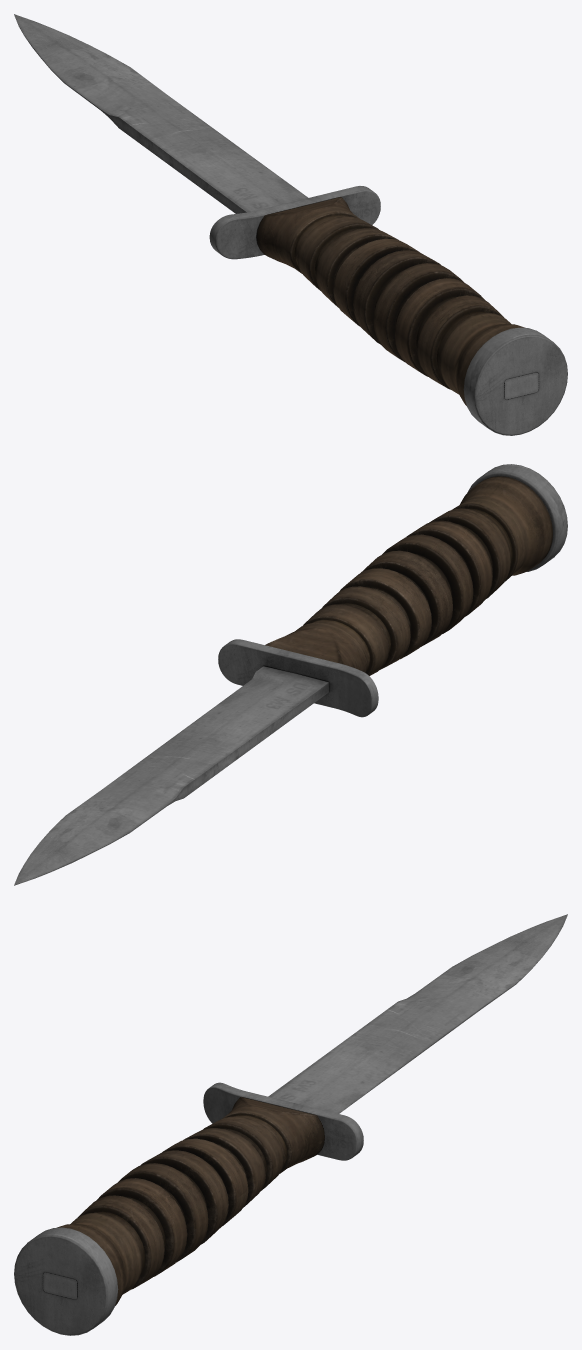
File: M3TrenchKnife.fbx
3 views of the same model, one above another, from view 1: azimuth 30°, elevation 25°; view 2: azimuth 150°, elevation 25°; view 3: azimuth 330°, elevation 25° (orthographic).
Visible parts, largest first — view 1: Cube.006; view 2: Cube.006; view 3: Cube.006.
Boxes of the visible parts, x1,y1,x2,y2 form: Cube.006: (14,14,567,435); Cube.006: (14,464,567,885); Cube.006: (14,914,567,1335).
Size of the model in its own units: 5.44 by 3.19 by 29.83.
